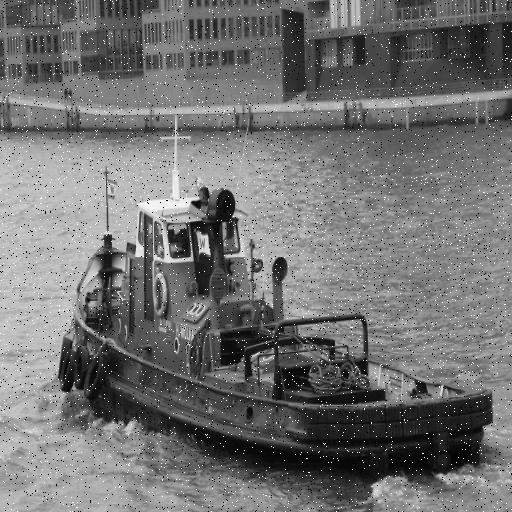tugboat: (57, 132, 497, 480)
